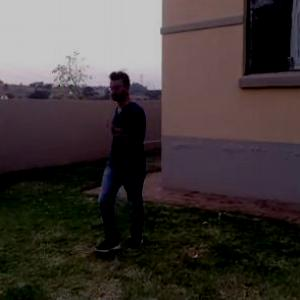takeoff-hand: (101, 110, 132, 143)
